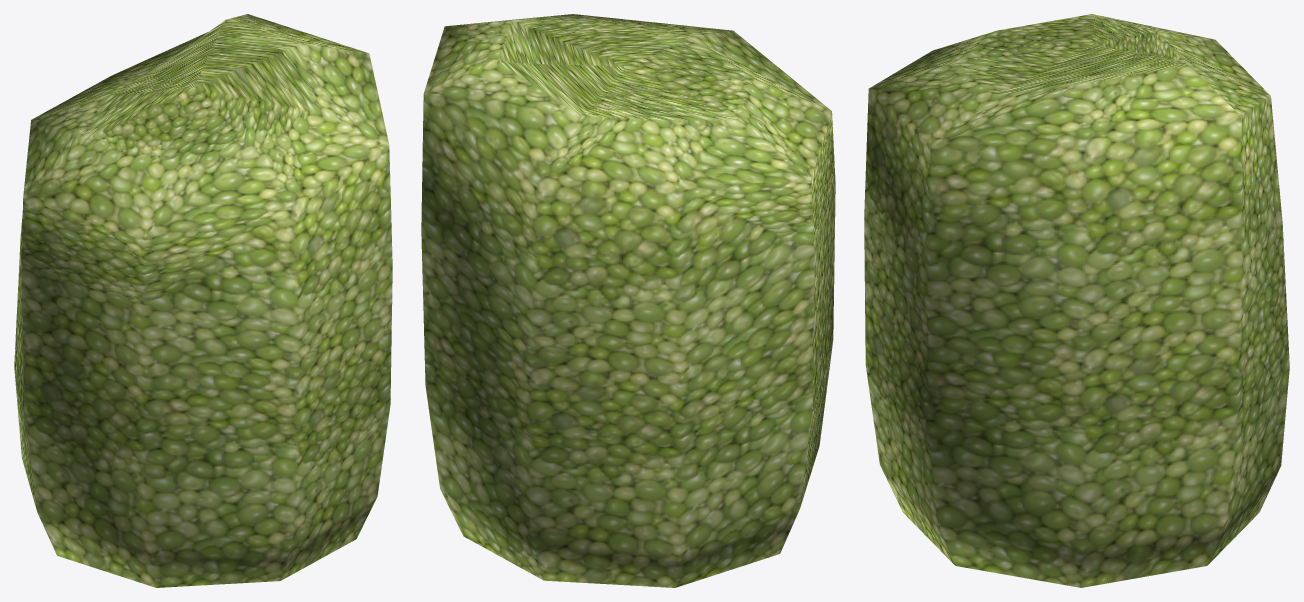
Rendered from M_Home_Garden_Pot_Peas.fbx.
3 renders of one model, left to right at view 1: azimuth 30°, elevation 25°; view 2: azimuth 150°, elevation 25°; view 3: azimuth 270°, elevation 25°, orthographic. The views are drawn at different scales.
Visible parts, largest first — view 1: M_Home_Garden_Pot_Peas; view 2: M_Home_Garden_Pot_Peas; view 3: M_Home_Garden_Pot_Peas.
Part boxes in pixels (<box>): M_Home_Garden_Pot_Peas: <box>14,14,392,587</box>; M_Home_Garden_Pot_Peas: <box>421,14,835,587</box>; M_Home_Garden_Pot_Peas: <box>864,14,1289,587</box>.
Bounding box in the file's own units: 18.34 × 22.32 × 17.65.
